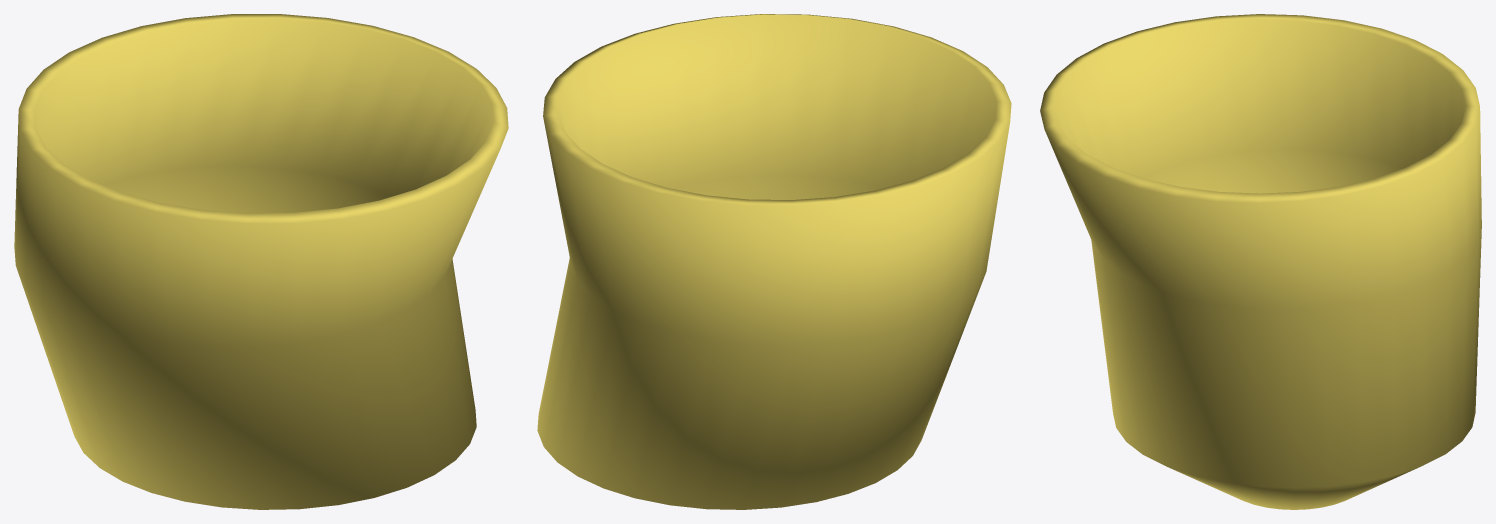
File: mod_tool_pickerBag_Open.fbx
3 views of the same model, side by side, from view 1: azimuth 30°, elevation 25°; view 2: azimuth 150°, elevation 25°; view 3: azimuth 270°, elevation 25° (orthographic). The views are drawn at different scales.
Visible parts, largest first — view 1: mesh_trashBag_Open; view 2: mesh_trashBag_Open; view 3: mesh_trashBag_Open.
Boxes of the visible parts, left/top/right/bottom form: mesh_trashBag_Open: left=14, top=14, right=508, bottom=509; mesh_trashBag_Open: left=537, top=14, right=1011, bottom=509; mesh_trashBag_Open: left=1040, top=14, right=1481, bottom=509.
Bounding box in the file's own units: 214 × 185 × 214.
